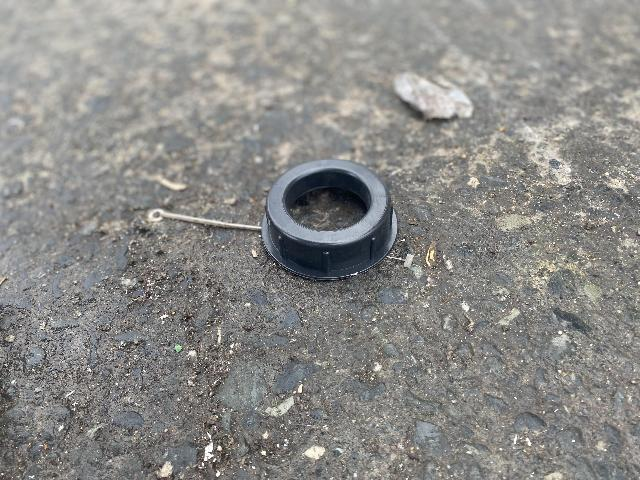Plastik: (254, 163, 398, 268)
